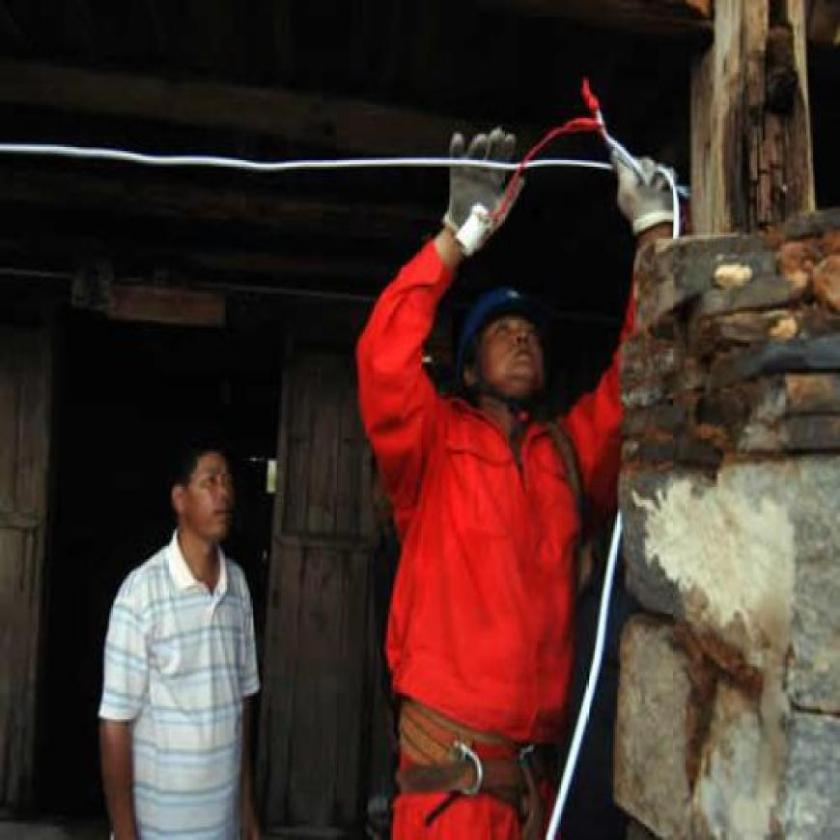Con_casco: (459, 275, 561, 418)
Sin_casco: (168, 430, 240, 560)
